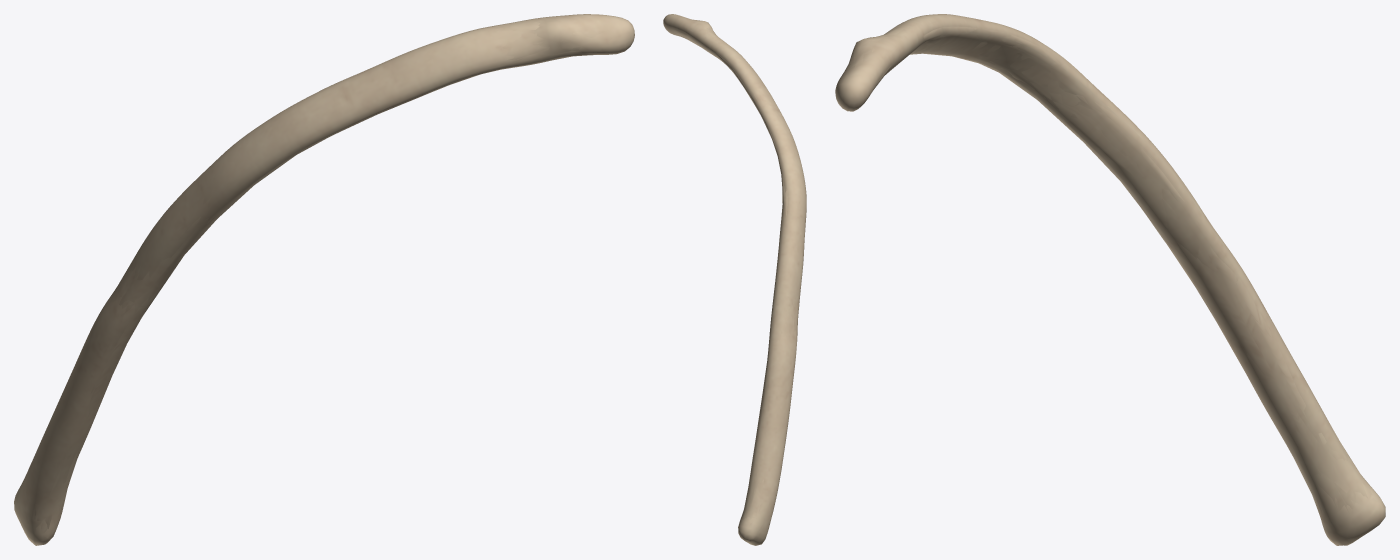
The model's file is Rib R11.fbx.
The picture shows the model from 3 angles, left to right: view 1: azimuth 30°, elevation 25°; view 2: azimuth 150°, elevation 25°; view 3: azimuth 270°, elevation 25°; orthographic projection. The views are drawn at different scales.
Parts seen in each view (by area): view 1: Rib R11 high, Rib R11, Rib R11 low; view 2: Rib R11 high, Rib R11, Rib R11 low; view 3: Rib R11 low, Rib R11, Rib R11 high.
Boxes of the visible parts, x1=… form: Rib R11 high: x1=15, y1=14, x2=634, y2=544; Rib R11: x1=14, y1=14, x2=634, y2=545; Rib R11 low: x1=26, y1=18, x2=605, y2=528; Rib R11 high: x1=666, y1=14, x2=806, y2=545; Rib R11: x1=663, y1=14, x2=806, y2=545; Rib R11 low: x1=673, y1=21, x2=799, y2=518; Rib R11 low: x1=845, y1=22, x2=1367, y2=544; Rib R11: x1=835, y1=14, x2=1385, y2=545; Rib R11 high: x1=835, y1=14, x2=1385, y2=545.
Size of the model in its own units: 13.63 by 20.34 by 15.21.
